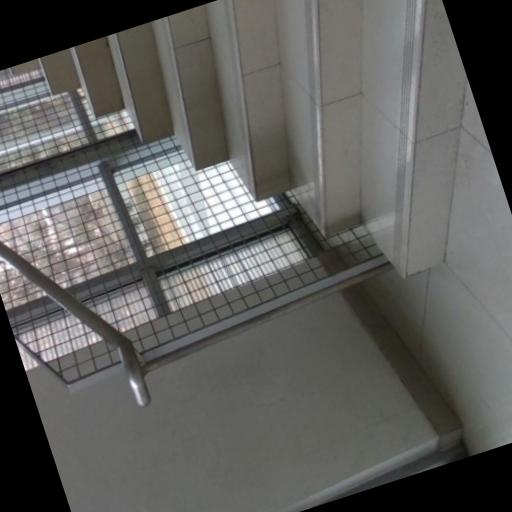stairs: (12, 0, 466, 274)
